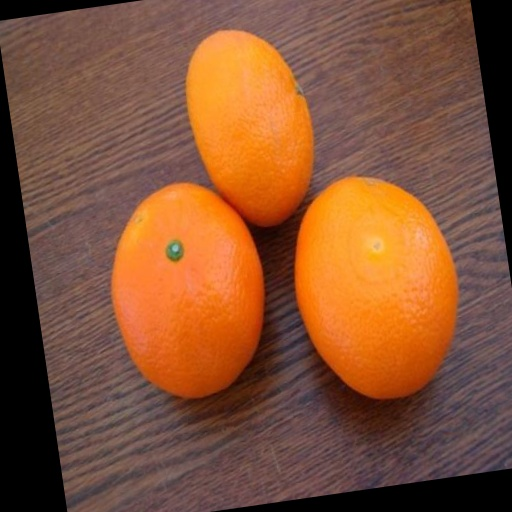fruit: (295, 177, 458, 398), (112, 184, 264, 397), (186, 31, 313, 226)
